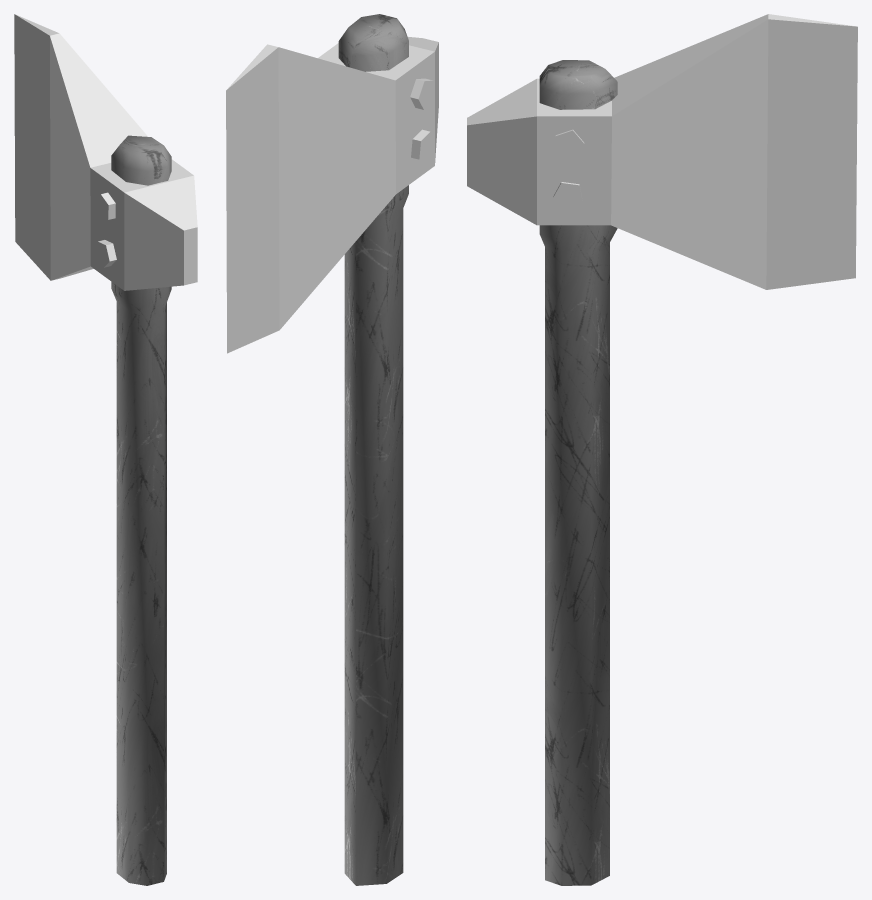
File: titanium_axe.glb
3 views of the same model, side by side, from view 1: azimuth 30°, elevation 25°; view 2: azimuth 150°, elevation 25°; view 3: azimuth 270°, elevation 25° (orthographic). The views are drawn at different scales.
Visible parts, largest first — view 1: TitaniumAxe; view 2: TitaniumAxe; view 3: TitaniumAxe.
Part boxes in pixels (x1,y1,x2,y2): TitaniumAxe: [14, 14, 197, 885]; TitaniumAxe: [226, 14, 438, 885]; TitaniumAxe: [467, 14, 857, 885].
Size of the model in its own units: 1.05 by 9.84 by 4.06.
Materials: 3 (1 with a texture image).
